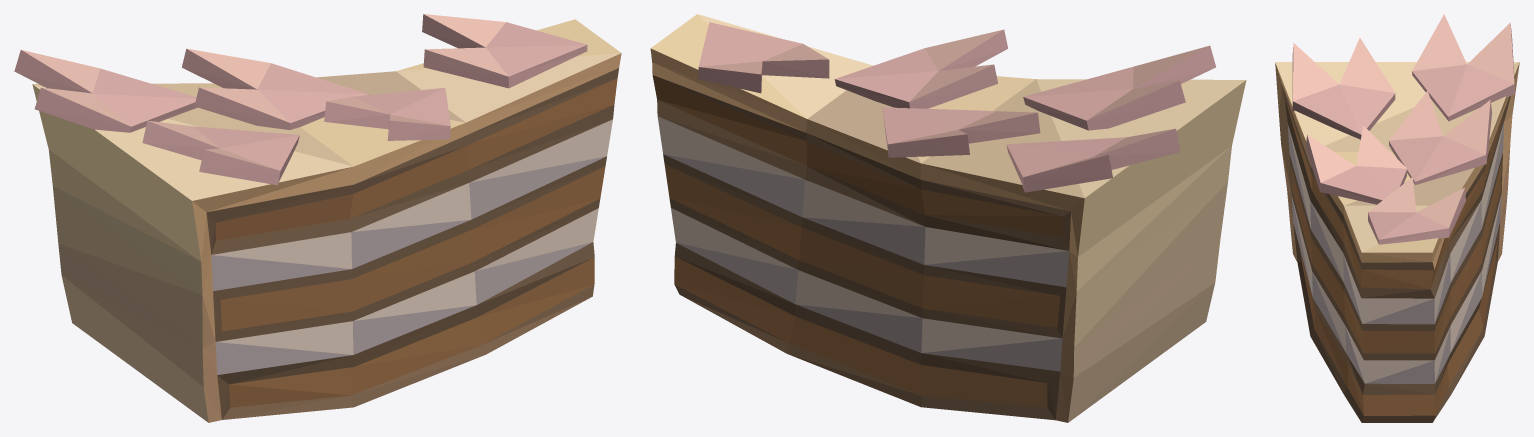
File: cake.fbx
3 views of the same model, side by side, from view 1: azimuth 30°, elevation 25°; view 2: azimuth 150°, elevation 25°; view 3: azimuth 270°, elevation 25° (orthographic). The views are drawn at different scales.
Parts seen in each view (by area): view 1: pCone2; view 2: pCone2; view 3: pCone2.
Boxes of the visible parts, left/top/right/bottom form: pCone2: left=14, top=14, right=621, bottom=422; pCone2: left=650, top=14, right=1246, bottom=422; pCone2: left=1275, top=14, right=1519, bottom=422.
Size of the model in its own units: 15.87 by 8.89 by 8.25.
